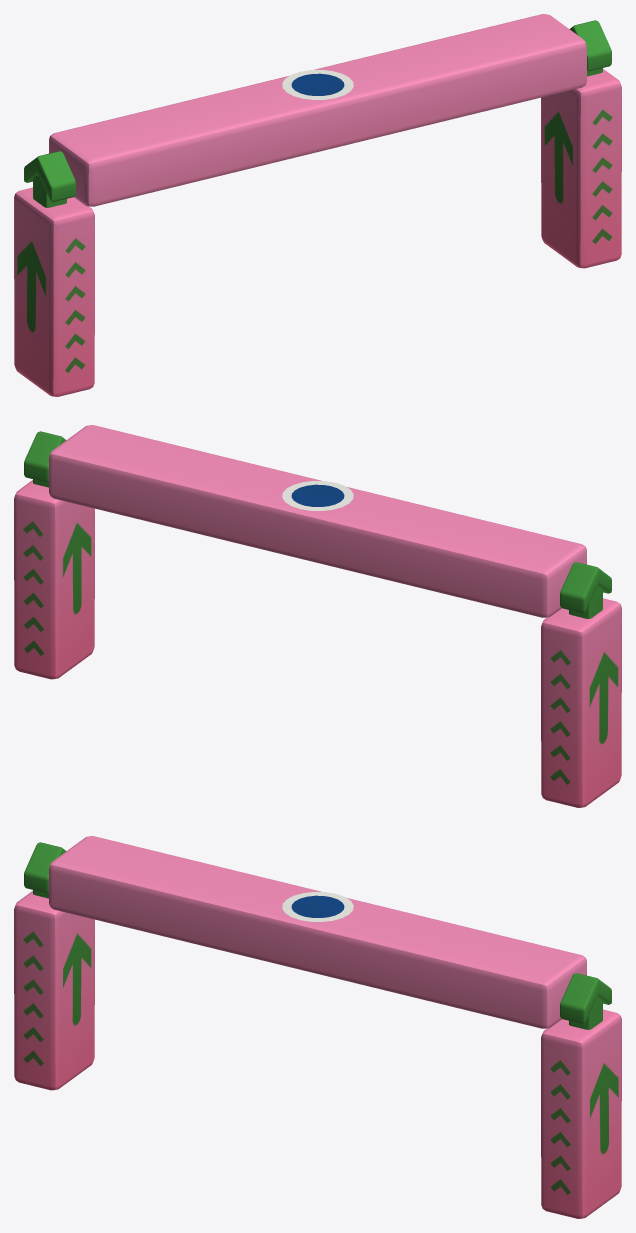
3 renders of one model, top to bottom at view 1: azimuth 30°, elevation 25°; view 2: azimuth 150°, elevation 25°; view 3: azimuth 330°, elevation 25°, orthographic.
Visible parts, largest first — view 1: shape3_4, top_cycle; view 2: shape3_4, top_cycle; view 3: shape3_4, top_cycle.
Boxes of the visible parts, box(x1,y1,x2,y2) form: shape3_4: box(14, 14, 621, 396); top_cycle: box(282, 70, 353, 99); shape3_4: box(14, 425, 621, 807); top_cycle: box(282, 481, 353, 510); shape3_4: box(14, 836, 621, 1218); top_cycle: box(282, 892, 353, 921).
Size of the model in its own units: 39 by 15.08 by 5.
